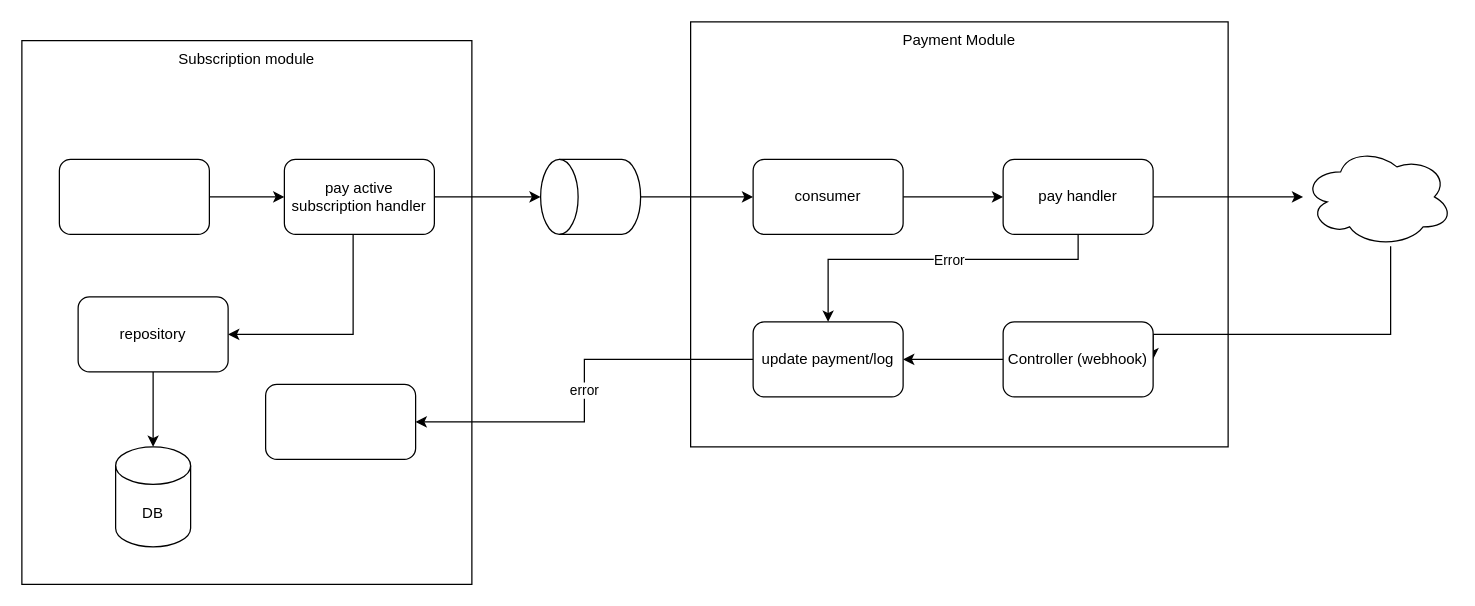
Image size: 1475x606. Some labels were removed from this diagram. The centre of each missing label's shape, as x and y in pixels:
gateway: point 1377,196
job schedule (1 per day): point 133,196
pause subscription: point 340,421
queue: point 590,196
